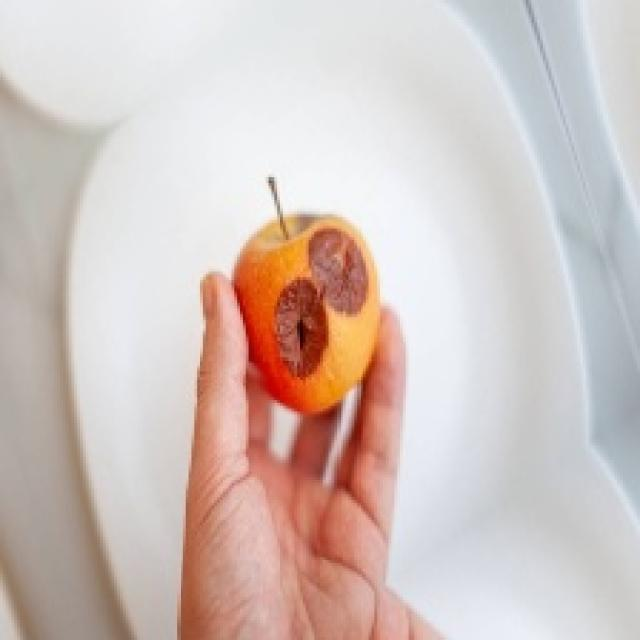rotten_apple: (236, 217, 380, 416)
